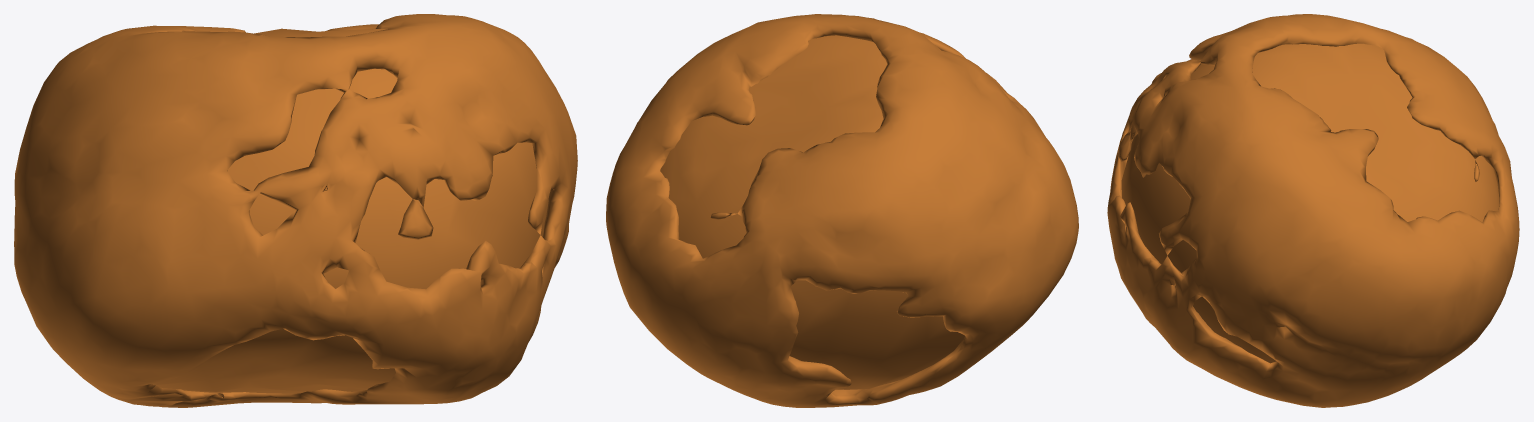
The model's file is dLDL.fbx.
3 views of the same model, side by side, from view 1: azimuth 30°, elevation 25°; view 2: azimuth 150°, elevation 25°; view 3: azimuth 270°, elevation 25° (orthographic). The views are drawn at different scales.
Parts seen in each view (by area): view 1: EMDB5239_1IsoSurface3.7, EMDB5239_1IsoSurface1.889; view 2: EMDB5239_1IsoSurface3.7, EMDB5239_1IsoSurface1.889; view 3: EMDB5239_1IsoSurface3.7, EMDB5239_1IsoSurface1.889.
Part boxes in pixels (left/top/right/bottom): EMDB5239_1IsoSurface3.7: left=14, top=14, right=577, bottom=407; EMDB5239_1IsoSurface1.889: left=152, top=28, right=548, bottom=393; EMDB5239_1IsoSurface3.7: left=606, top=14, right=1078, bottom=407; EMDB5239_1IsoSurface1.889: left=660, top=35, right=964, bottom=389; EMDB5239_1IsoSurface3.7: left=1107, top=14, right=1519, bottom=407; EMDB5239_1IsoSurface1.889: left=1121, top=43, right=1499, bottom=363.
Bounding box in the file's own units: 221 × 173 × 201.
